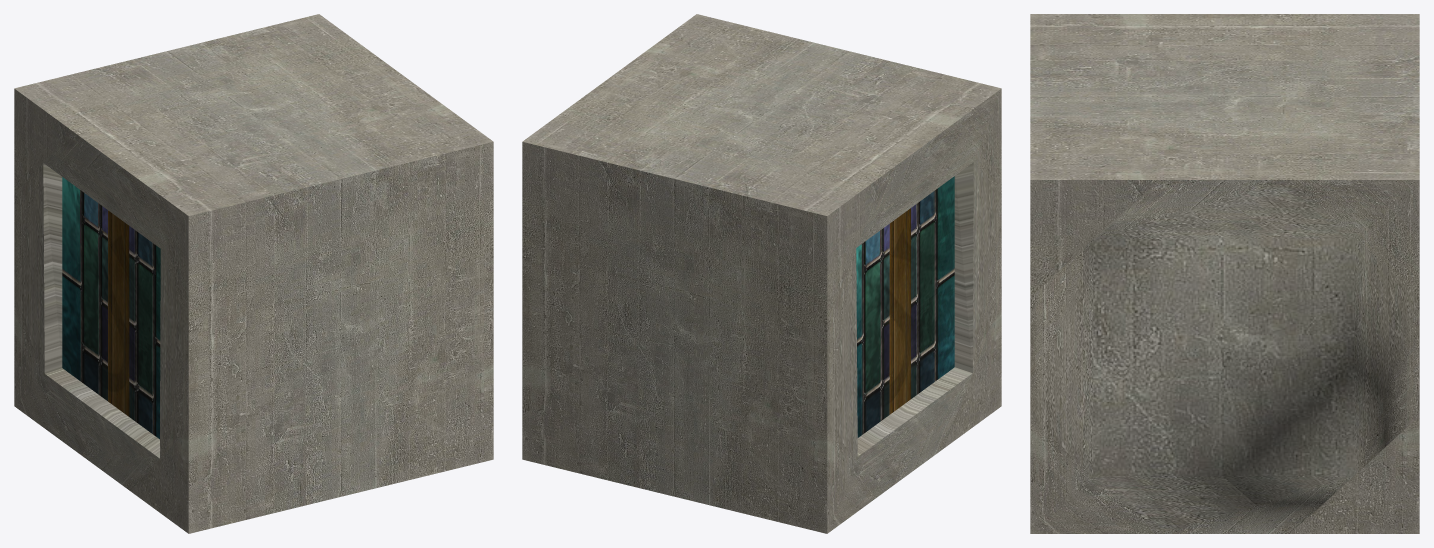
Rendered from windowBlock.FBX.
3 renders of one model, left to right at view 1: azimuth 30°, elevation 25°; view 2: azimuth 150°, elevation 25°; view 3: azimuth 270°, elevation 25°, orthographic. The views are drawn at different scales.
Parts seen in each view (by area): view 1: Box02; view 2: Box02; view 3: Box02.
Boxes of the visible parts, x1=… form: Box02: x1=14, y1=14, x2=493, y2=533; Box02: x1=522, y1=14, x2=1001, y2=533; Box02: x1=1030, y1=14, x2=1419, y2=533.
Size of the model in its own units: 60.27 by 60.01 by 59.75.
Materials: 2 (2 with a texture image).
